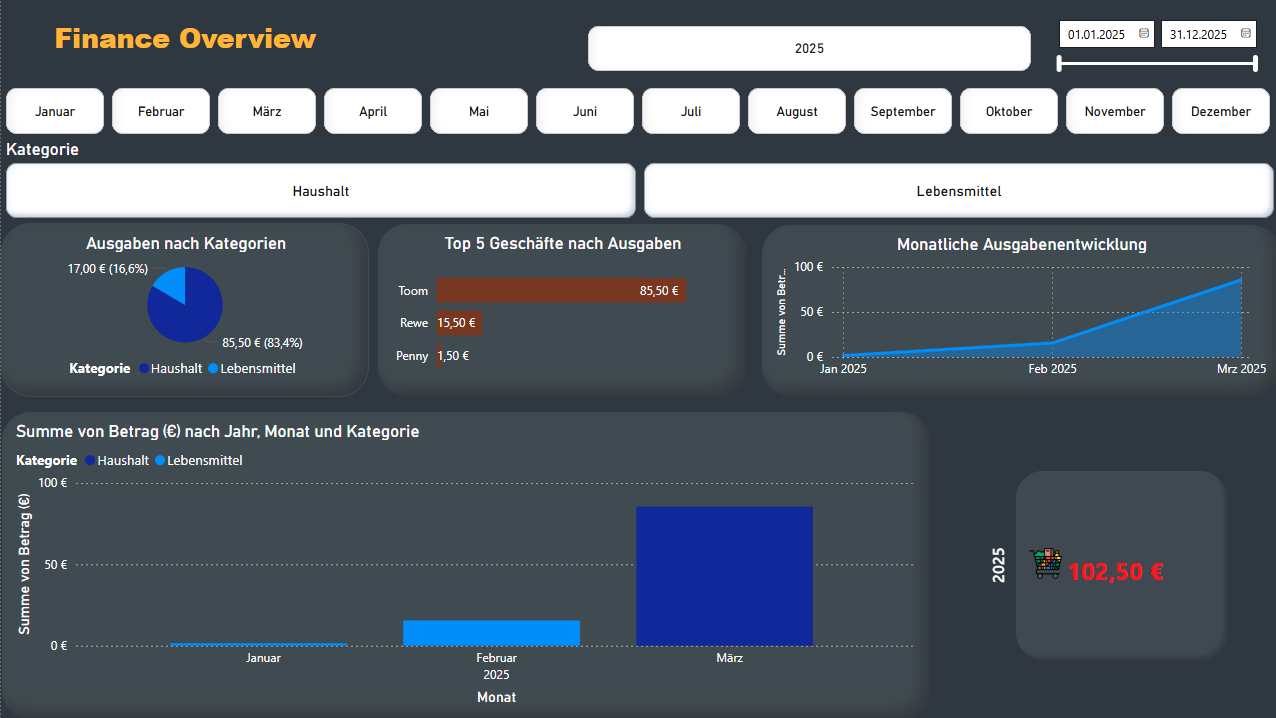

This screenshot's page, from the dashboard's own definition file:
{"tool":"powerbi","page":{"name":"Übersichtstabelle","canvas":[1280,720],"ordinal":0},"visuals":[{"type":"textbox","box":[24,14,320,48],"z":0},{"type":"advancedSlicerVisual","fields":{"Values":["Daten.Datum.Variation.Datumshierarchie.Monat"]},"box":[0,83,1279,56],"z":1000},{"type":"advancedSlicerVisual","fields":{"Values":["Daten.Kategorie"]},"box":[0,139,1279,84],"z":2000},{"type":"lineChart","title":"Monatliche Ausgabenentwicklung","fields":{"Y":["Sum(Daten.Betrag (€))"],"Category":["Daten.Datum.Variation.Datumshierarchie.Jahr","Daten.Datum.Variation.Datumshierarchie.Monat"]},"box":[759.5,223.5,520.7,173.3],"z":3000},{"type":"barChart","title":"Top 5 Geschäfte nach Ausgaben","fields":{"Category":["Daten.Geschäft"],"Y":["Sum(Daten.Betrag (€))"]},"box":[376,223,370,174],"z":4000},{"type":"pieChart","title":"Ausgaben nach Kategorien","fields":{"Category":["Daten.Kategorie","Daten.Datum.Variation.Datumshierarchie.Jahr"],"Y":["Sum(Daten.Betrag (€))"]},"box":[0,223,368,174],"z":5000},{"type":"columnChart","fields":{"Category":["Daten.Datum.Variation.Datumshierarchie.Jahr","Daten.Datum.Variation.Datumshierarchie.Monat"],"Y":["Sum(Daten.Betrag (€))"],"Series":["Daten.Kategorie"]},"box":[0,411.2,930.1,308.8],"z":6000},{"type":"slicer","fields":{"Values":["Daten.Datum"]},"box":[1035,0,245,76],"z":7000},{"type":"advancedSlicerVisual","fields":{"Values":["Daten.Datum.Variation.Datumshierarchie.Jahr"]},"box":[581.7,20.6,453.4,55.7],"z":8000},{"type":"cardVisual","title":"Ausgaben","fields":{"Data":["Sum(Daten.Betrag (€))"],"Rows":["Daten.Datum.Variation.Datumshierarchie.Jahr"]},"box":[972.5,445.8,258.3,239.2],"z":9000}]}

Visuals, with their boxes in screenshot pixels (x1, y1, x2, y2), scaled from the page's 1280x720 canvas onto the 1276x718 screenshot:
textbox: [24,14,343,62]
advancedSlicerVisual - Daten.Datum.Variation.Datumshierarchie.Monat: [0,83,1275,139]
advancedSlicerVisual - Daten.Kategorie: [0,139,1275,222]
"Monatliche Ausgabenentwicklung" lineChart: [757,223,1275,396]
"Top 5 Geschäfte nach Ausgaben" barChart: [375,222,744,396]
"Ausgaben nach Kategorien" pieChart: [0,222,367,396]
columnChart - Daten.Datum.Variation.Datumshierarchie.Jahr x Daten.Datum.Variation.Datumshierarchie.Monat: [0,410,927,717]
slicer - Daten.Datum: [1032,0,1275,76]
advancedSlicerVisual - Daten.Datum.Variation.Datumshierarchie.Jahr: [580,21,1032,76]
"Ausgaben" cardVisual: [969,445,1227,683]
